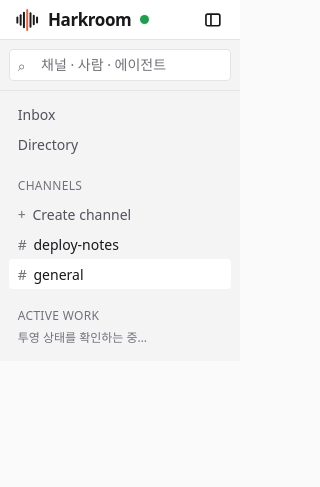
it: 찾기가 사이드바 맨 위로 (A · 찾기가 맨 위로) › 2. 범위 — 채널·사람·에이전트가 한 입력으로 › 한 번 친 글자가 채널·사람·에이전트 셋을 동시에 건다
Type "de" into the field with test id "sidebar-find" at coordinates (120, 65), box 9,49 -> 231,81
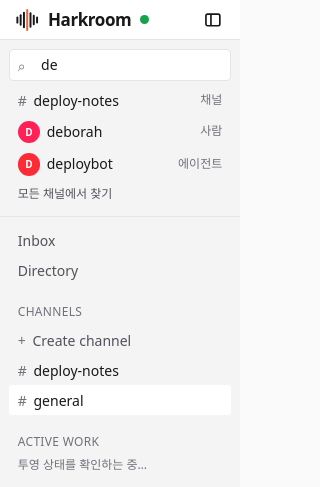
Check: the list with test id "sidebar-find-results" shows "deploy-notes", box 9,85 -> 231,115
Check: the list with test id "sidebar-find-results" shows "deploybot", box 9,148 -> 231,180
Check: the list with test id "sidebar-find-results" shows "deborah", box 9,115 -> 231,148
